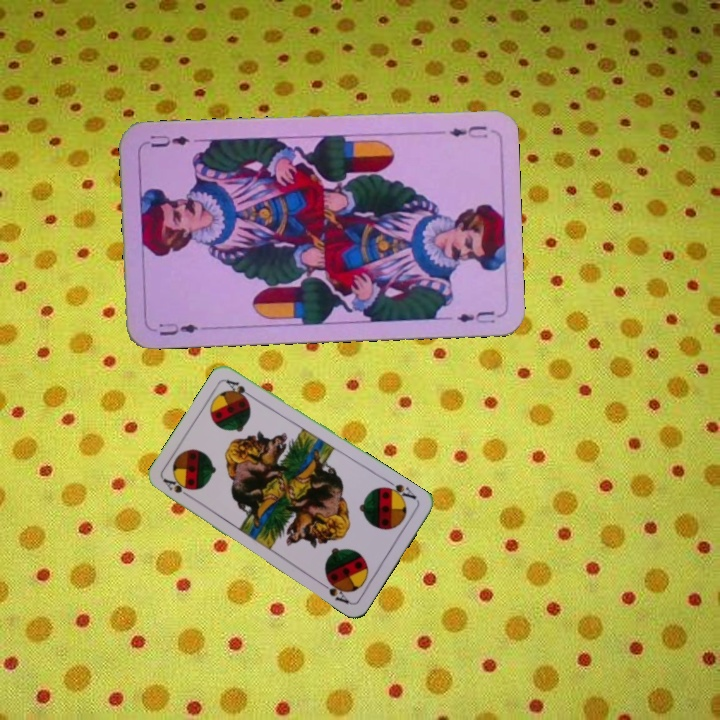EU: (445, 121, 490, 141), (155, 319, 200, 338)
SA: (380, 476, 419, 504), (159, 474, 196, 502)
